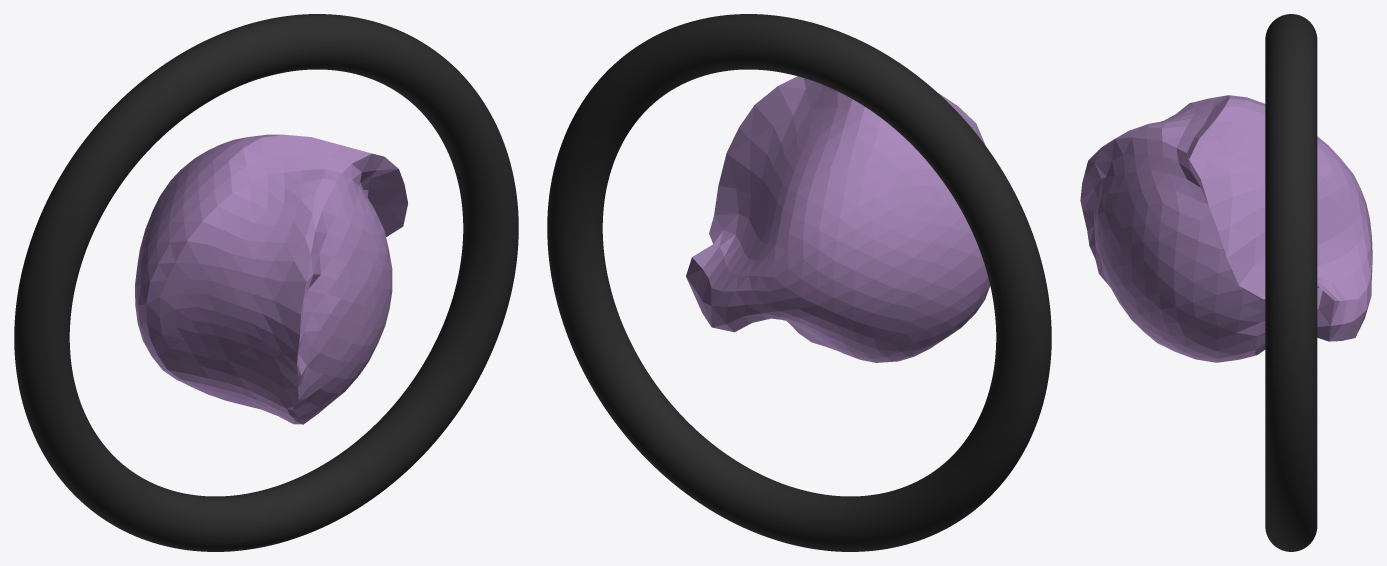
3 views of the same model, side by side, from view 1: azimuth 30°, elevation 25°; view 2: azimuth 150°, elevation 25°; view 3: azimuth 270°, elevation 25° (orthographic). The views are drawn at different scales.
Visible parts, largest first — view 1: fixed_CAD_Ring, actual014_body_inferred_base_gray; view 2: fixed_CAD_Ring, actual014_body_inferred_base_gray; view 3: actual014_body_inferred_base_gray, fixed_CAD_Ring.
Boxes of the visible parts, <box> form: fixed_CAD_Ring: <box>14,14,518,551</box>; actual014_body_inferred_base_gray: <box>135,134,407,424</box>; fixed_CAD_Ring: <box>547,14,1051,551</box>; actual014_body_inferred_base_gray: <box>686,76,990,362</box>; actual014_body_inferred_base_gray: <box>1080,95,1372,362</box>; fixed_CAD_Ring: <box>1265,14,1317,551</box>.
Bounding box in the file's own units: 0.0124 × 0.0124 × 0.00673.
